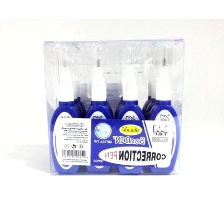correction_fluid: (147, 40, 182, 175), (48, 43, 82, 175), (113, 41, 147, 173), (81, 42, 114, 173)
plastic_box: (40, 35, 188, 180)
